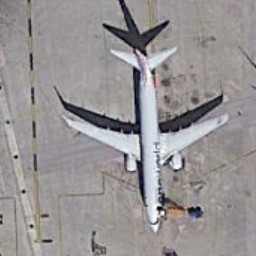Airplane: (49, 36, 242, 243)
